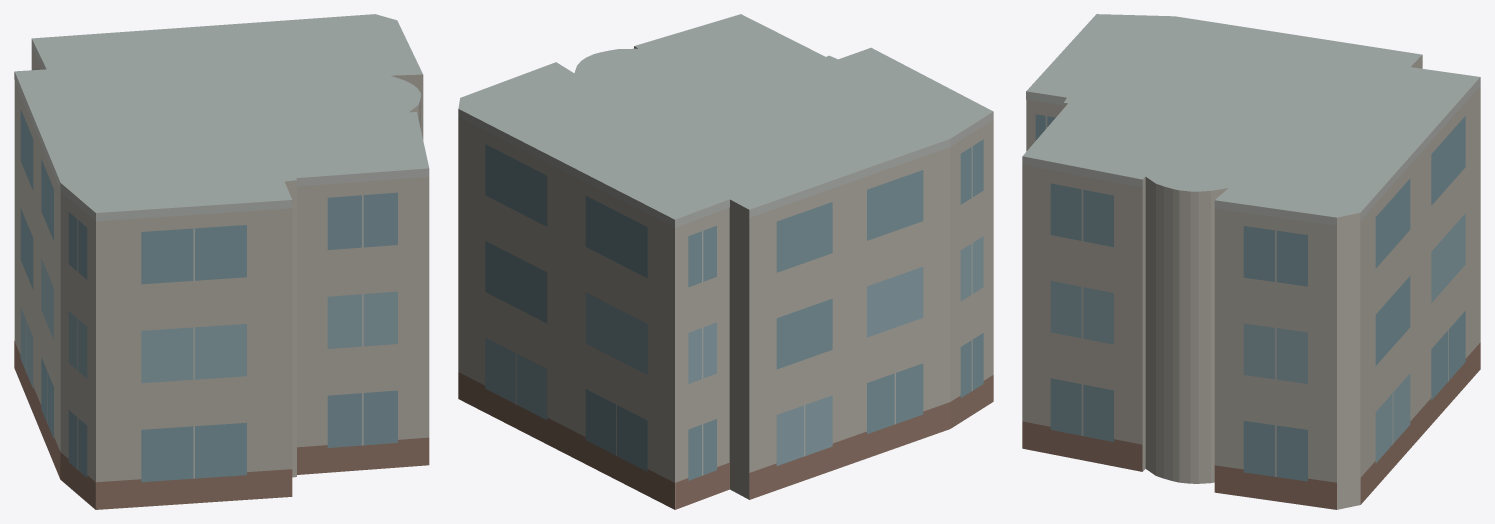
The model's file is survey-upis-33037502.glb.
The picture shows the model from 3 angles, left to right: view 1: azimuth 30°, elevation 25°; view 2: azimuth 150°, elevation 25°; view 3: azimuth 270°, elevation 25°; orthographic projection. The views are drawn at different scales.
Visible parts, largest first — view 1: survey-upis-33037502.tmp; view 2: survey-upis-33037502.tmp; view 3: survey-upis-33037502.tmp.
Part boxes in pixels (<box>): survey-upis-33037502.tmp: <box>14,14,429,509</box>; survey-upis-33037502.tmp: <box>458,14,993,509</box>; survey-upis-33037502.tmp: <box>1022,14,1480,509</box>.
Size of the model in its own units: 13.01 by 8.7 by 12.37.
